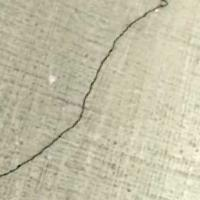crack: (0, 0, 175, 193)
